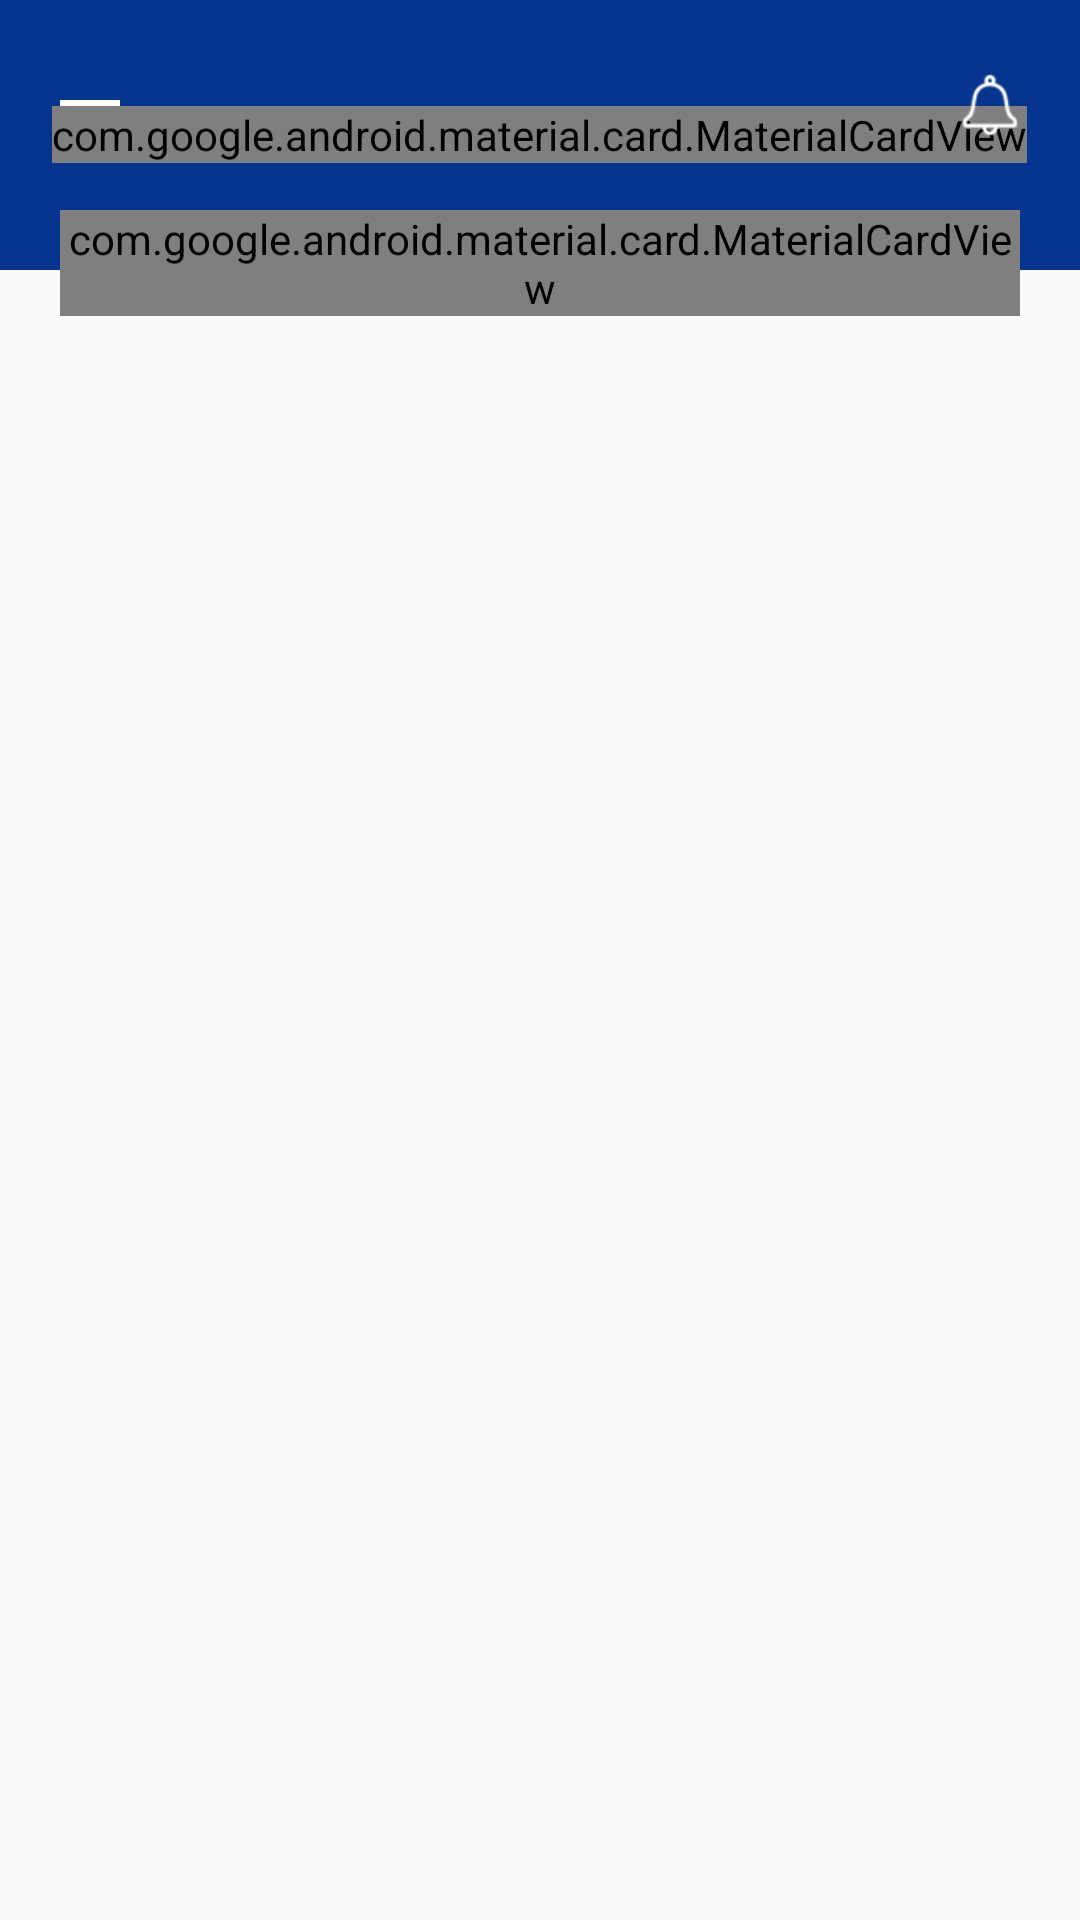

Where to tap for icons on this 1080px×1920px app screen, as (x=x, y=y):
notification: (x=986, y=112)
